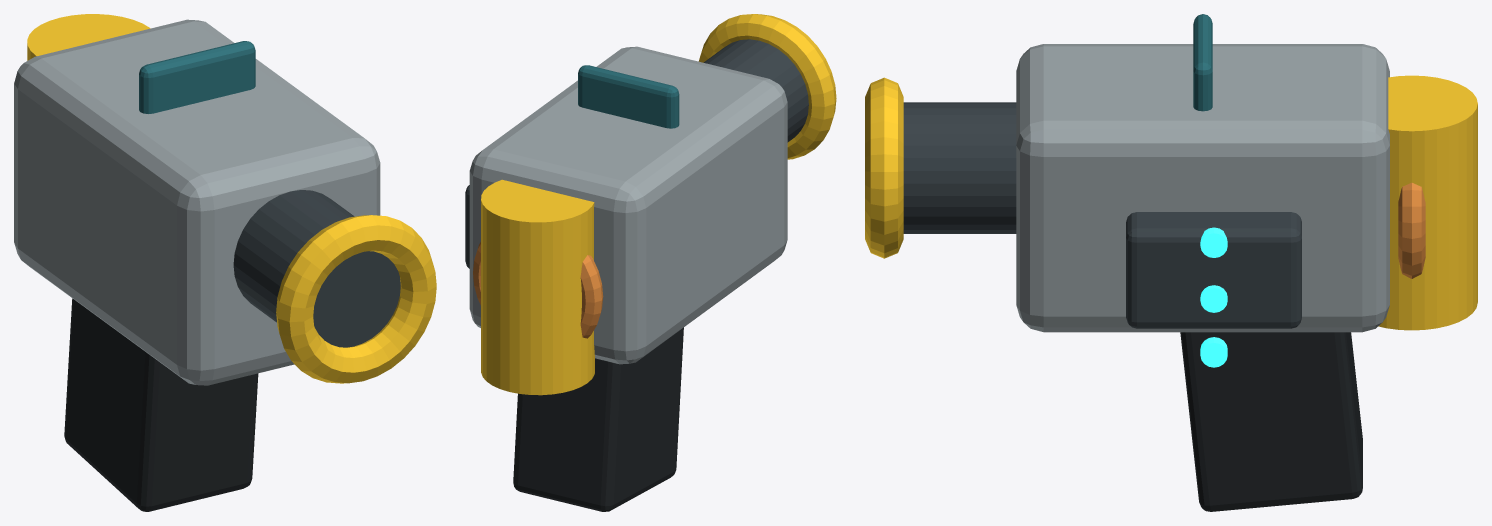
Rendered from color_gun_variant_a.glb.
3 views of the same model, side by side, from view 1: azimuth 30°, elevation 25°; view 2: azimuth 150°, elevation 25°; view 3: azimuth 270°, elevation 25° (orthographic). The views are drawn at different scales.
Visible parts, largest first — view 1: Tool body, Tool grip, Emitter rim, Tool barrel, Top display, Color cartridge; view 2: Tool body, Color cartridge, Tool grip, Emitter rim, Top display, Tool barrel, Cartridge ring; view 3: Tool body, Tool grip, Color cartridge, Side module, Tool barrel, Emitter rim, Cartridge ring, Top display, Status indicator, Status indicator.002.
Part boxes in pixels (left/top/right/bottom): Tool body: left=14, top=19, right=380, bottom=385; Tool grip: left=64, top=298, right=258, bottom=511; Emitter rim: left=276, top=215, right=436, bottom=383; Tool barrel: left=233, top=190, right=400, bottom=347; Top display: left=139, top=41, right=255, bottom=113; Color cartridge: left=27, top=14, right=150, bottom=60; Tool body: left=469, top=46, right=787, bottom=364; Color cartridge: left=481, top=179, right=594, bottom=395; Tool grip: left=513, top=327, right=683, bottom=511; Emitter rim: left=698, top=14, right=836, bottom=159; Top display: left=578, top=65, right=679, bottom=128; Tool barrel: left=703, top=39, right=808, bottom=142; Cartridge ring: left=473, top=242, right=603, bottom=338; Tool body: left=1016, top=44, right=1389, bottom=332; Tool grip: left=1180, top=332, right=1362, bottom=511; Color cartridge: left=1378, top=75, right=1477, bottom=330; Side module: left=1126, top=212, right=1301, bottom=328; Tool barrel: left=903, top=102, right=1016, bottom=233; Emitter rim: left=865, top=77, right=903, bottom=258; Cartridge ring: left=1398, top=182, right=1425, bottom=278; Top display: left=1193, top=14, right=1212, bottom=111; Status indicator: left=1200, top=337, right=1227, bottom=367; Status indicator.002: left=1200, top=227, right=1227, bottom=257.
Size of what is drawn, in the model's own units: 0.5225 by 0.9018 by 1.11.
